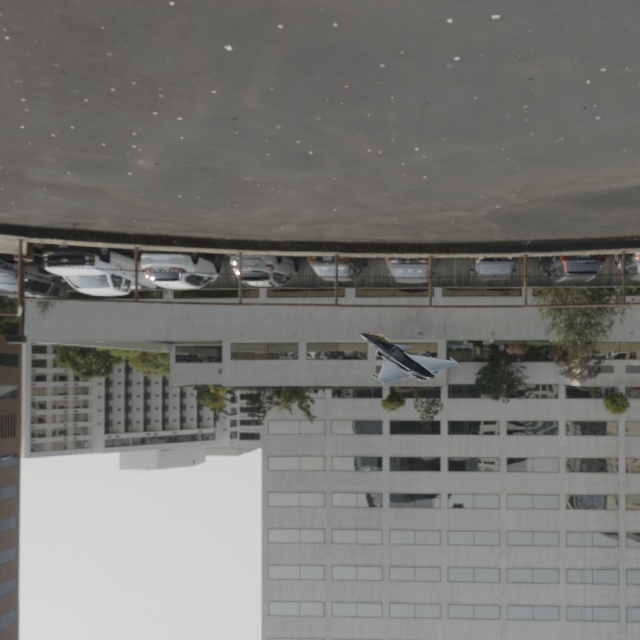dassault_rafale: (319, 290, 472, 394)
